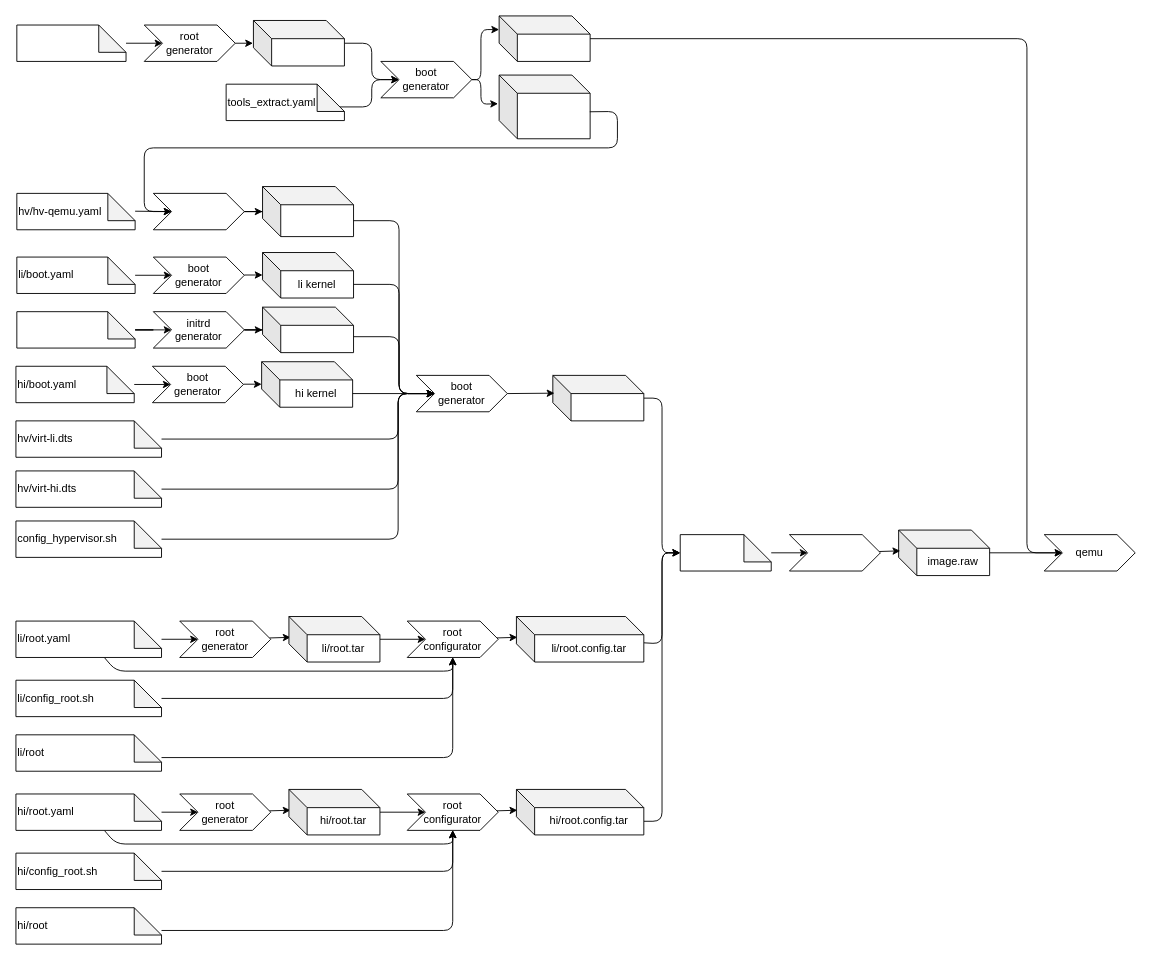
Image size: 1151x960. Some labels were removed from this diagram. Here are the shapes that lost their labels. From the top down, the box of each, then its label:
(16, 24, 126, 61): tools.yaml
(253, 20, 344, 66): tools.tar
(498, 15, 590, 61): uboot.elf
(498, 74, 590, 139): Hypervisor config specialization
(152, 192, 244, 230): Hypervisor configurator
(262, 186, 354, 237): Hypervisor config
(16, 311, 135, 348): li/initrd.yaml
(262, 306, 354, 353): li initrd
(552, 374, 644, 421): Configured Hypervisor
(679, 534, 771, 571): image.yaml
(789, 534, 880, 571): embdgen
